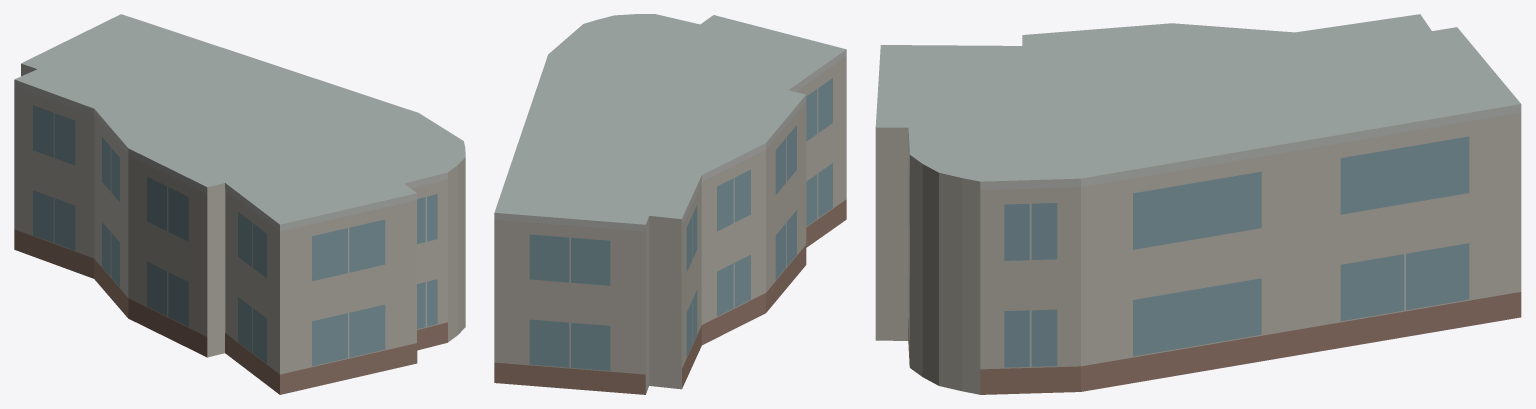
File: survey-upis-32697630.glb
3 renders of one model, left to right at view 1: azimuth 30°, elevation 25°; view 2: azimuth 150°, elevation 25°; view 3: azimuth 270°, elevation 25°, orthographic. The views are drawn at different scales.
Parts seen in each view (by area): view 1: survey-upis-32697630.tmp; view 2: survey-upis-32697630.tmp; view 3: survey-upis-32697630.tmp.
Boxes of the visible parts, box(x1,y1,x2,y2) form: survey-upis-32697630.tmp: box(14, 14, 465, 394); survey-upis-32697630.tmp: box(494, 14, 846, 394); survey-upis-32697630.tmp: box(875, 14, 1521, 394).
Bounding box in the file's own units: 10.29 × 6.1 × 16.75.
